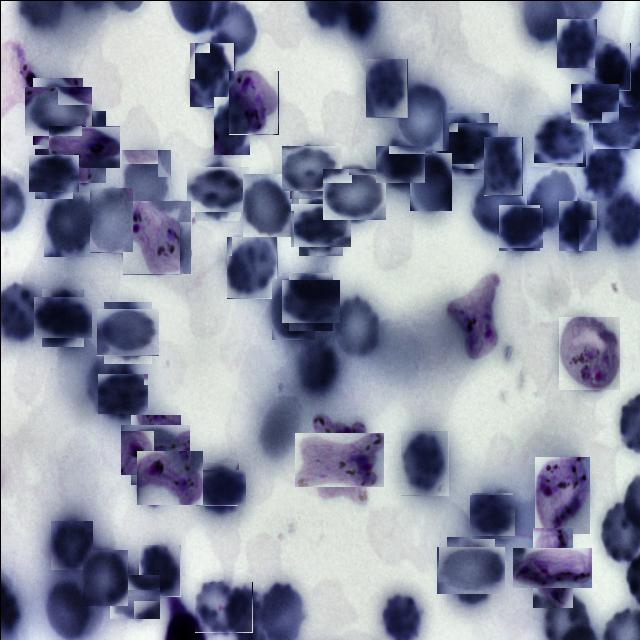red blood cell: (396, 79, 448, 150), (125, 419, 185, 479), (28, 81, 86, 140), (441, 541, 499, 599), (324, 164, 382, 222), (43, 192, 94, 256), (332, 294, 383, 358), (526, 166, 576, 231), (121, 149, 170, 215), (226, 236, 277, 298), (437, 116, 493, 172), (400, 430, 448, 495), (242, 173, 291, 236), (99, 304, 154, 360), (194, 581, 252, 632), (189, 42, 234, 107), (190, 162, 244, 216), (89, 187, 133, 252), (285, 141, 338, 194), (472, 177, 521, 234), (294, 199, 346, 251), (535, 112, 587, 164), (271, 278, 314, 339), (284, 276, 336, 326), (82, 549, 127, 605), (37, 292, 87, 342), (365, 58, 407, 117), (582, 142, 626, 198), (409, 152, 451, 210), (483, 136, 522, 195), (110, 572, 158, 619), (138, 544, 180, 596), (594, 104, 640, 150), (213, 96, 249, 154), (99, 370, 144, 416), (50, 520, 92, 569), (558, 200, 597, 251), (469, 492, 514, 536), (556, 18, 596, 67), (31, 150, 75, 194), (377, 142, 421, 186), (572, 81, 616, 125), (198, 465, 241, 509), (496, 206, 540, 248), (594, 42, 630, 90)
trophozoite: (303, 423, 375, 495), (122, 200, 191, 274), (558, 316, 620, 390), (534, 456, 589, 533), (449, 272, 498, 357), (522, 537, 582, 597), (136, 450, 202, 504), (228, 70, 278, 134), (55, 118, 112, 174)
